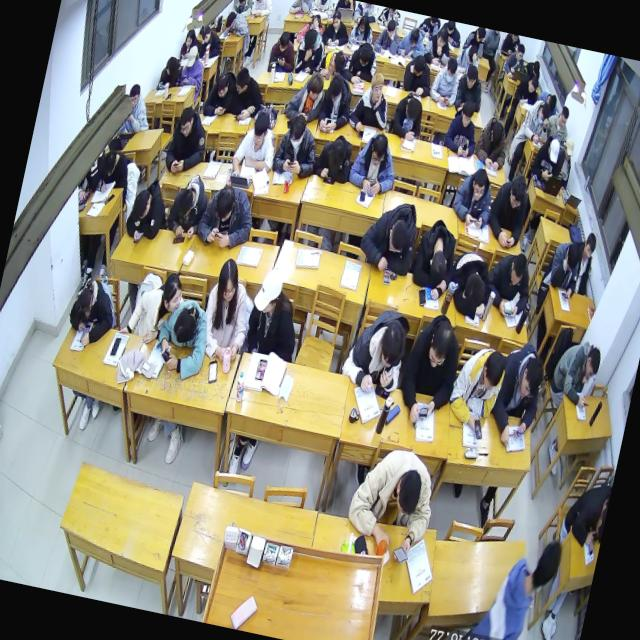bow: (150, 292, 216, 380), (118, 263, 186, 346), (355, 197, 422, 278), (408, 216, 462, 302), (194, 178, 258, 250), (62, 274, 120, 349), (442, 246, 496, 321), (481, 246, 537, 318), (163, 171, 212, 241), (123, 175, 173, 242), (542, 238, 584, 301), (225, 67, 268, 124), (313, 128, 357, 182), (200, 66, 240, 120), (340, 38, 380, 88), (398, 52, 436, 98), (395, 22, 429, 59), (314, 45, 348, 81), (156, 52, 185, 90), (197, 22, 226, 58), (223, 6, 254, 34), (522, 54, 544, 78), (230, 0, 254, 17)
down: (392, 465, 426, 516), (251, 266, 284, 314), (425, 317, 455, 368), (377, 322, 407, 369), (517, 353, 546, 400), (214, 258, 242, 302), (480, 348, 508, 392), (212, 184, 236, 224), (386, 216, 409, 252), (172, 187, 195, 220), (286, 114, 308, 148), (130, 187, 152, 221), (582, 346, 602, 382), (506, 174, 526, 210), (232, 64, 252, 98), (468, 168, 488, 202), (508, 250, 528, 284), (73, 288, 94, 320), (369, 132, 388, 166), (564, 240, 582, 270), (176, 107, 194, 137), (99, 149, 117, 177), (214, 70, 232, 98), (328, 135, 346, 162), (326, 76, 343, 103), (356, 42, 372, 68), (458, 102, 474, 128), (404, 94, 421, 118), (536, 98, 552, 122), (489, 120, 505, 144), (546, 138, 560, 164), (444, 58, 458, 84), (562, 136, 577, 160), (464, 65, 478, 89), (410, 54, 425, 76), (303, 28, 318, 49), (278, 28, 292, 50), (434, 28, 448, 50), (331, 48, 346, 68), (164, 52, 177, 74), (408, 25, 420, 47), (558, 104, 570, 125), (187, 42, 198, 64), (385, 18, 397, 38), (466, 44, 478, 64), (199, 26, 212, 44), (224, 10, 237, 28), (526, 74, 539, 92), (183, 23, 194, 44), (514, 44, 526, 62), (357, 14, 369, 32), (331, 7, 342, 26), (546, 93, 558, 110), (531, 59, 541, 75), (310, 12, 320, 28), (235, 0, 247, 5)
lookup: (249, 111, 271, 149), (368, 70, 386, 100), (582, 228, 599, 258), (126, 84, 140, 108)
sit: (339, 439, 442, 566), (390, 309, 468, 431), (338, 304, 413, 399), (240, 266, 310, 363), (197, 255, 260, 362), (489, 338, 550, 448), (444, 342, 508, 433), (546, 334, 604, 410), (228, 107, 282, 184), (347, 129, 402, 198), (162, 103, 213, 177), (486, 170, 534, 248), (270, 112, 323, 181), (346, 68, 396, 134), (449, 163, 498, 230), (315, 70, 357, 135), (440, 95, 484, 156), (282, 66, 328, 124), (472, 113, 514, 170), (451, 60, 488, 116), (426, 54, 464, 107), (92, 149, 132, 197), (390, 91, 428, 140), (292, 26, 328, 77), (570, 230, 598, 295), (122, 80, 156, 132), (520, 94, 554, 142), (528, 134, 560, 184), (266, 29, 300, 76), (179, 43, 209, 91), (422, 25, 454, 68), (320, 5, 353, 46), (552, 136, 576, 190), (372, 15, 402, 56), (544, 102, 573, 142), (512, 72, 542, 108), (346, 12, 376, 48), (454, 42, 482, 77), (502, 41, 527, 80), (178, 25, 202, 61), (248, 0, 274, 18)
